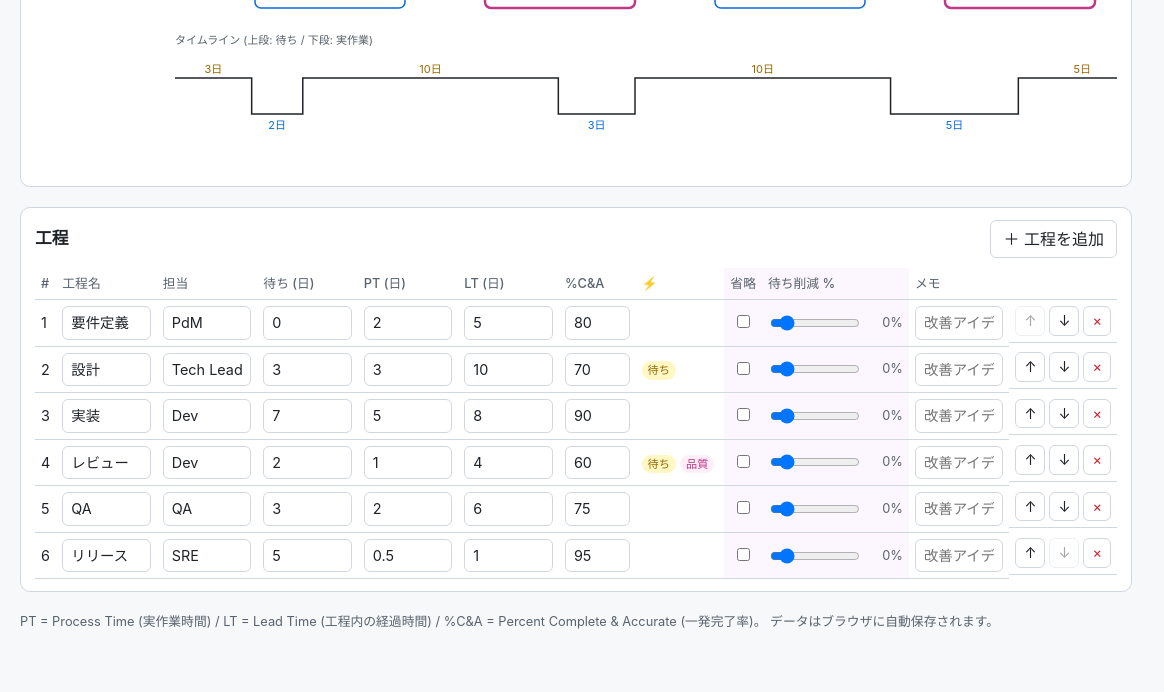
App › 省略にチェックすると Future の工程数が減り、Future 表示に切り替えられる
(page scrolled)
Click the checkbox named "工程 4 を省略": (744, 461) [737, 455, 750, 468]
(page scrolled)
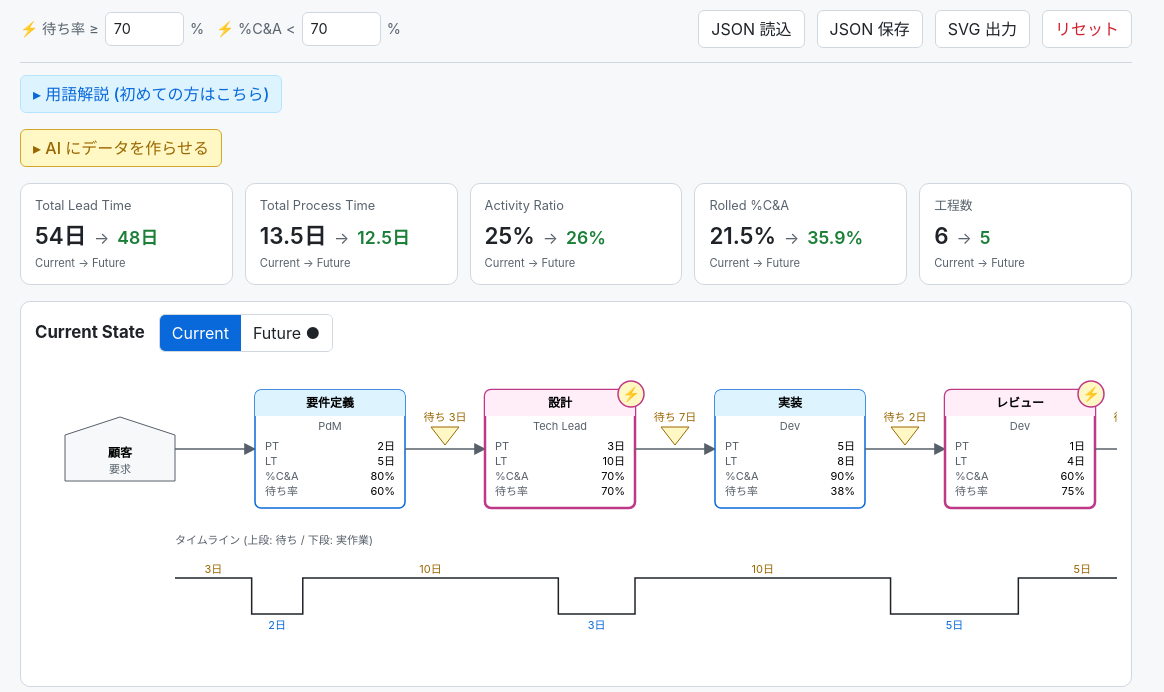
Now the text "5" is shown, box [980, 225, 991, 252]
Click the tab "Future ●": (287, 333) [241, 315, 332, 351]
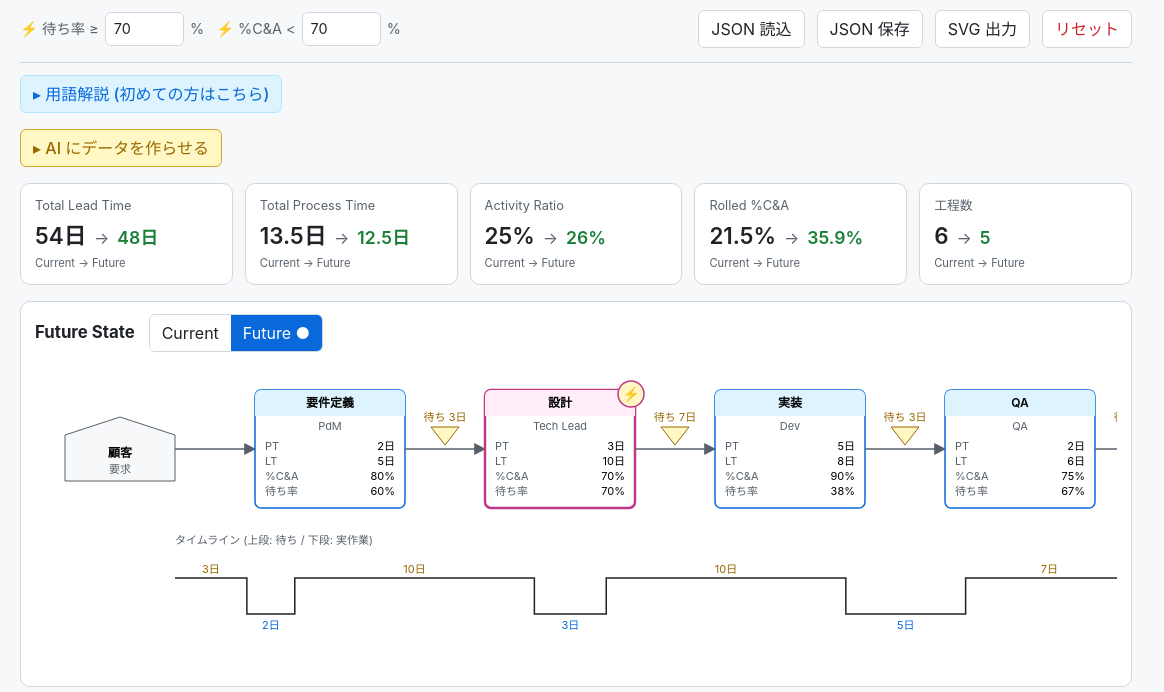
Now the heading "Future State" is shown, box [35, 320, 135, 345]
